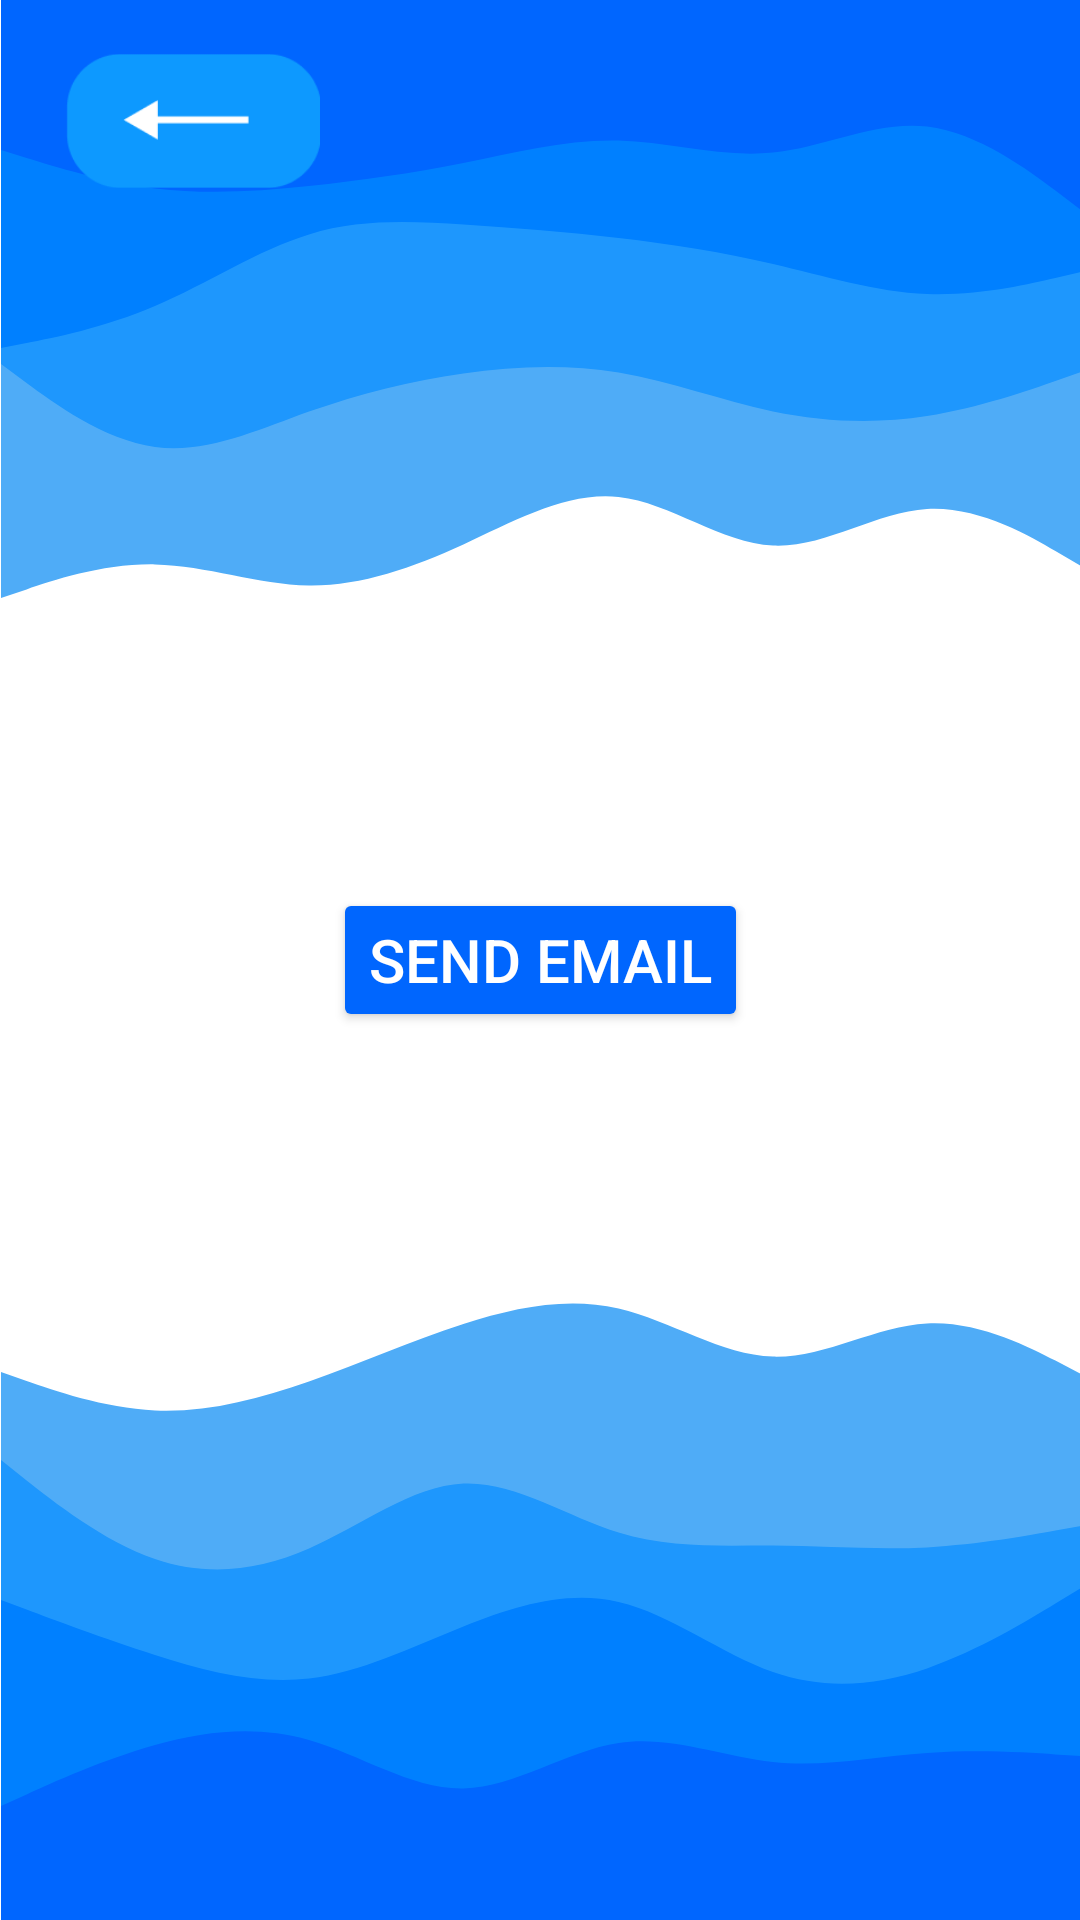

Named icons in this screenshot (1080x1920) and their bounding boxes, bbox=(x1, y1, x2, y2):
Back Button: bbox=(65, 54, 320, 196)
